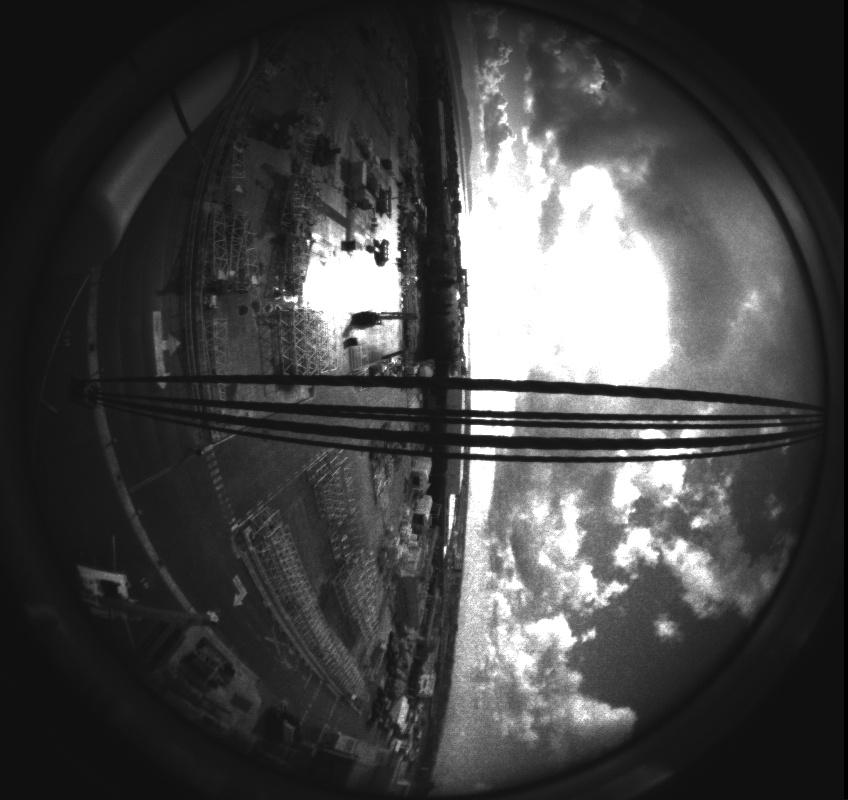rope: (4, 362, 841, 472)
